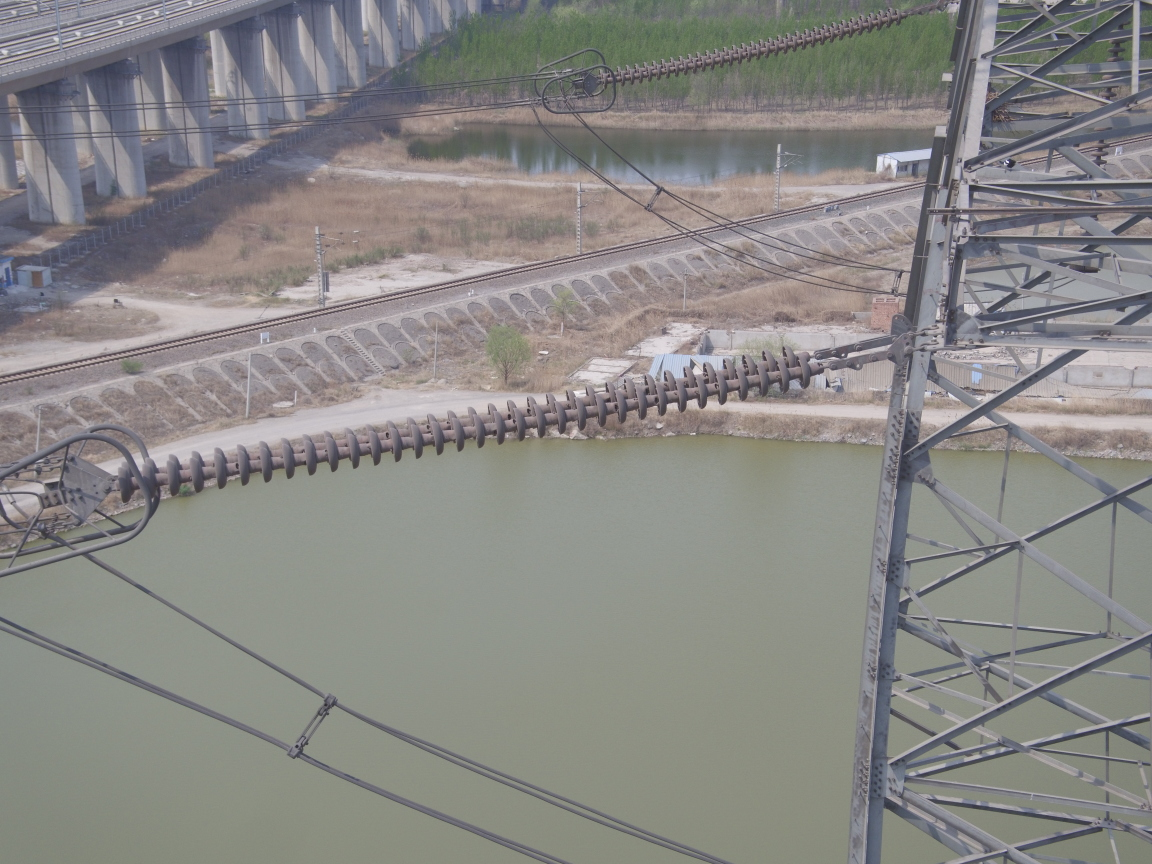insulator: (94, 343, 853, 505), (597, 1, 923, 92)
